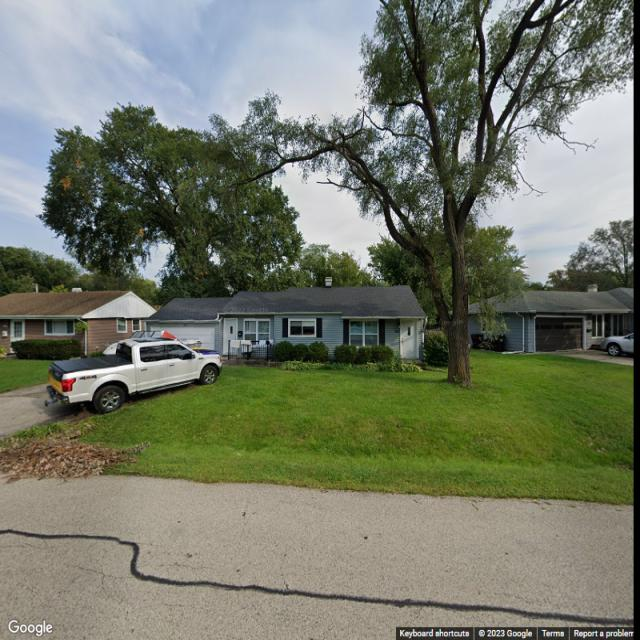House: (141, 276, 429, 366), (448, 284, 634, 354), (0, 283, 157, 359)
